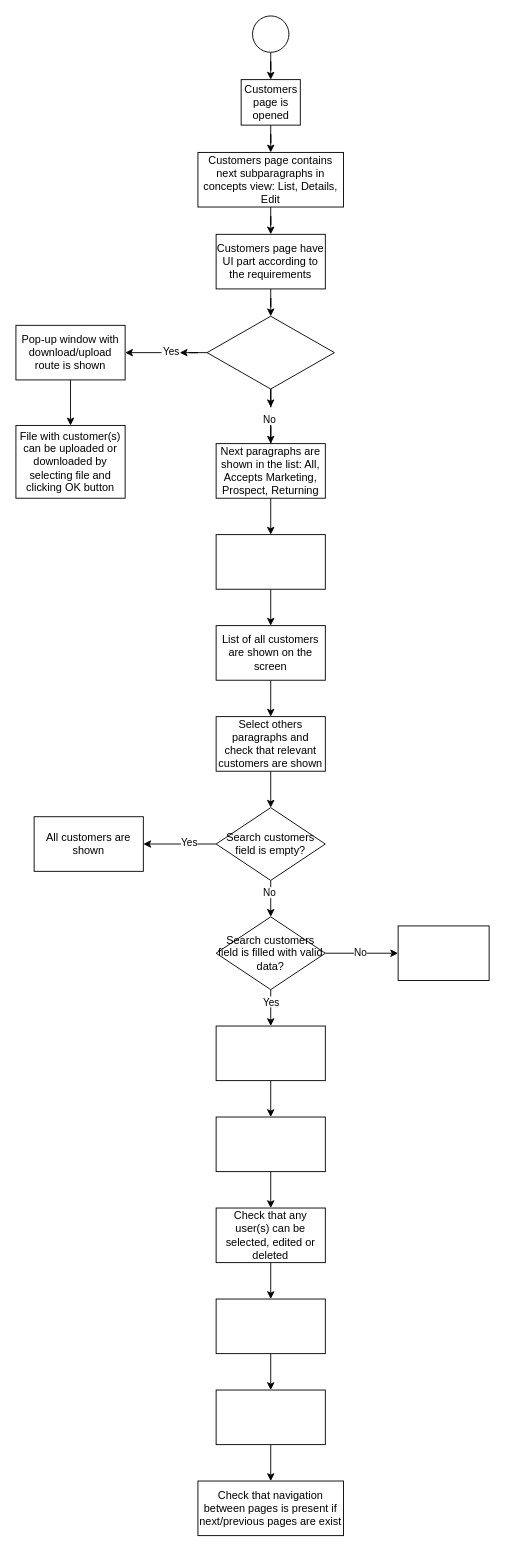
This 505x1552 diagram has some shape labels left out. The centre of each missing label's shape, as x and y in pixels:
"Check that 'All' is selected by default" belongs at point 270,561.
"Check that 'Sort By' button is sorted correctly" belongs at point 270,1144.
"Check that Rows per page can be chosen between 5, 10 and 25 per page" belongs at point 270,1417.
"Check that user can be added by clicking '+ Add' button" belongs at point 270,1326.
"List of customers is empty" belongs at point 443,953.
"Relevant list of customers is shown" belongs at point 270,1053.
"User clicked 'Import' or 'Export' buttons?" belongs at point 270,352.
